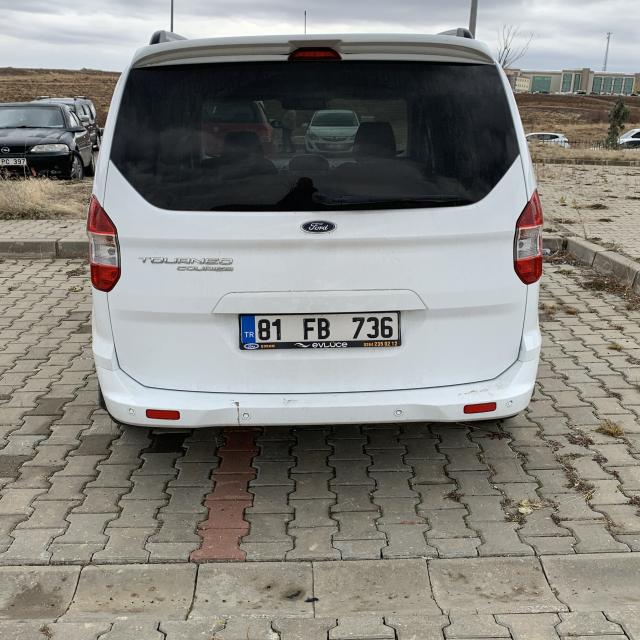license_plate: (239, 313, 399, 343)
